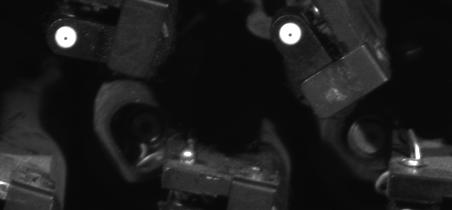fiber: (49, 20, 85, 56), (275, 17, 307, 51)
